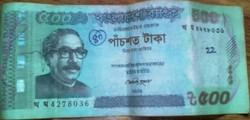500 taka: (3, 2, 248, 113)
